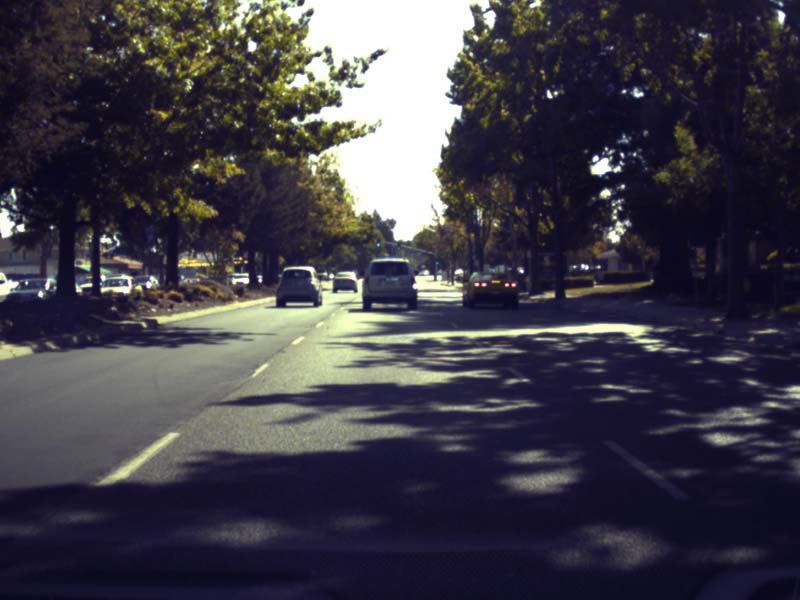Green: (376, 239, 380, 247), (435, 257, 439, 265), (396, 242, 400, 249)
